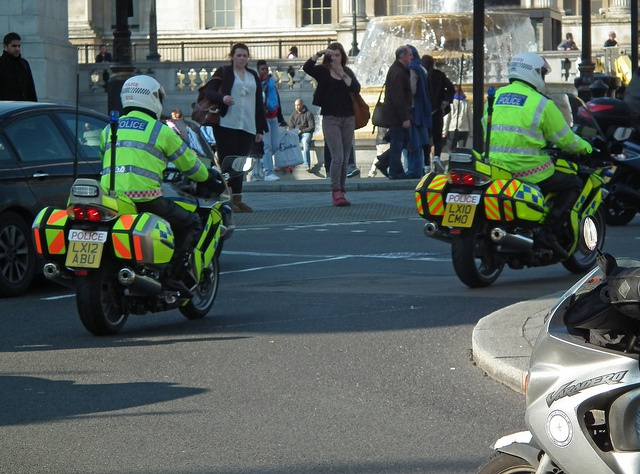non-vehicle: (463, 214, 640, 474), (30, 115, 238, 336), (413, 89, 619, 287), (578, 93, 640, 225)
